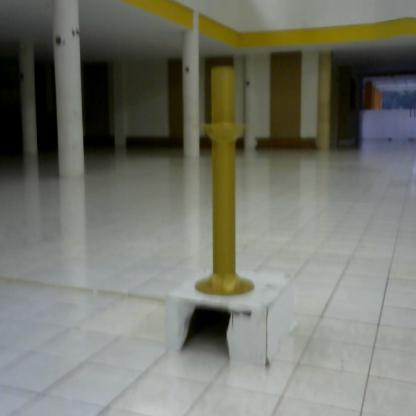pole: (190, 65, 259, 303)
